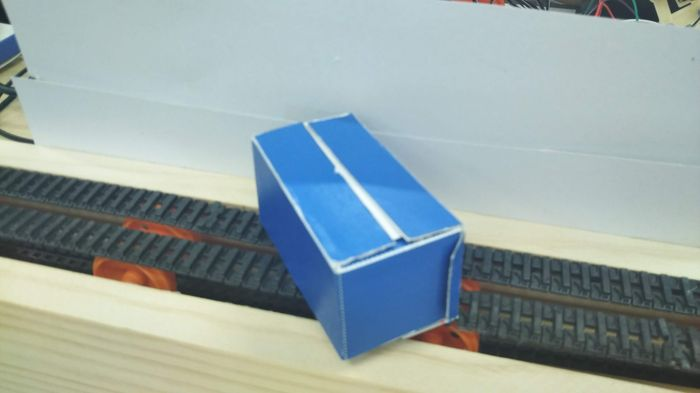box3: (248, 109, 463, 360)
